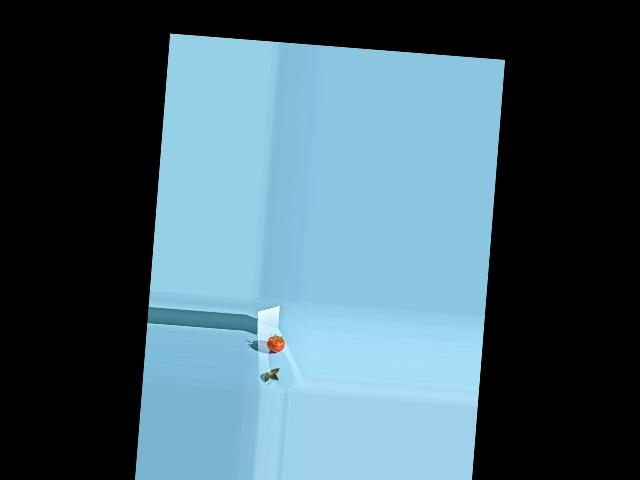tomato: (265, 334, 285, 352)
